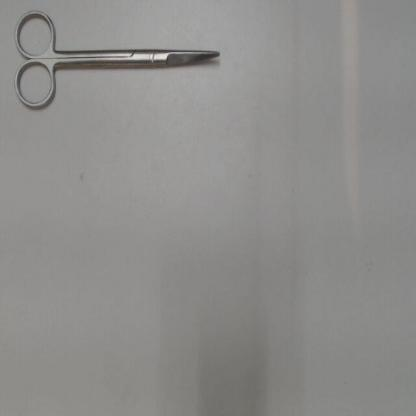Curved Mayo Scissors: (10, 5, 223, 116)
